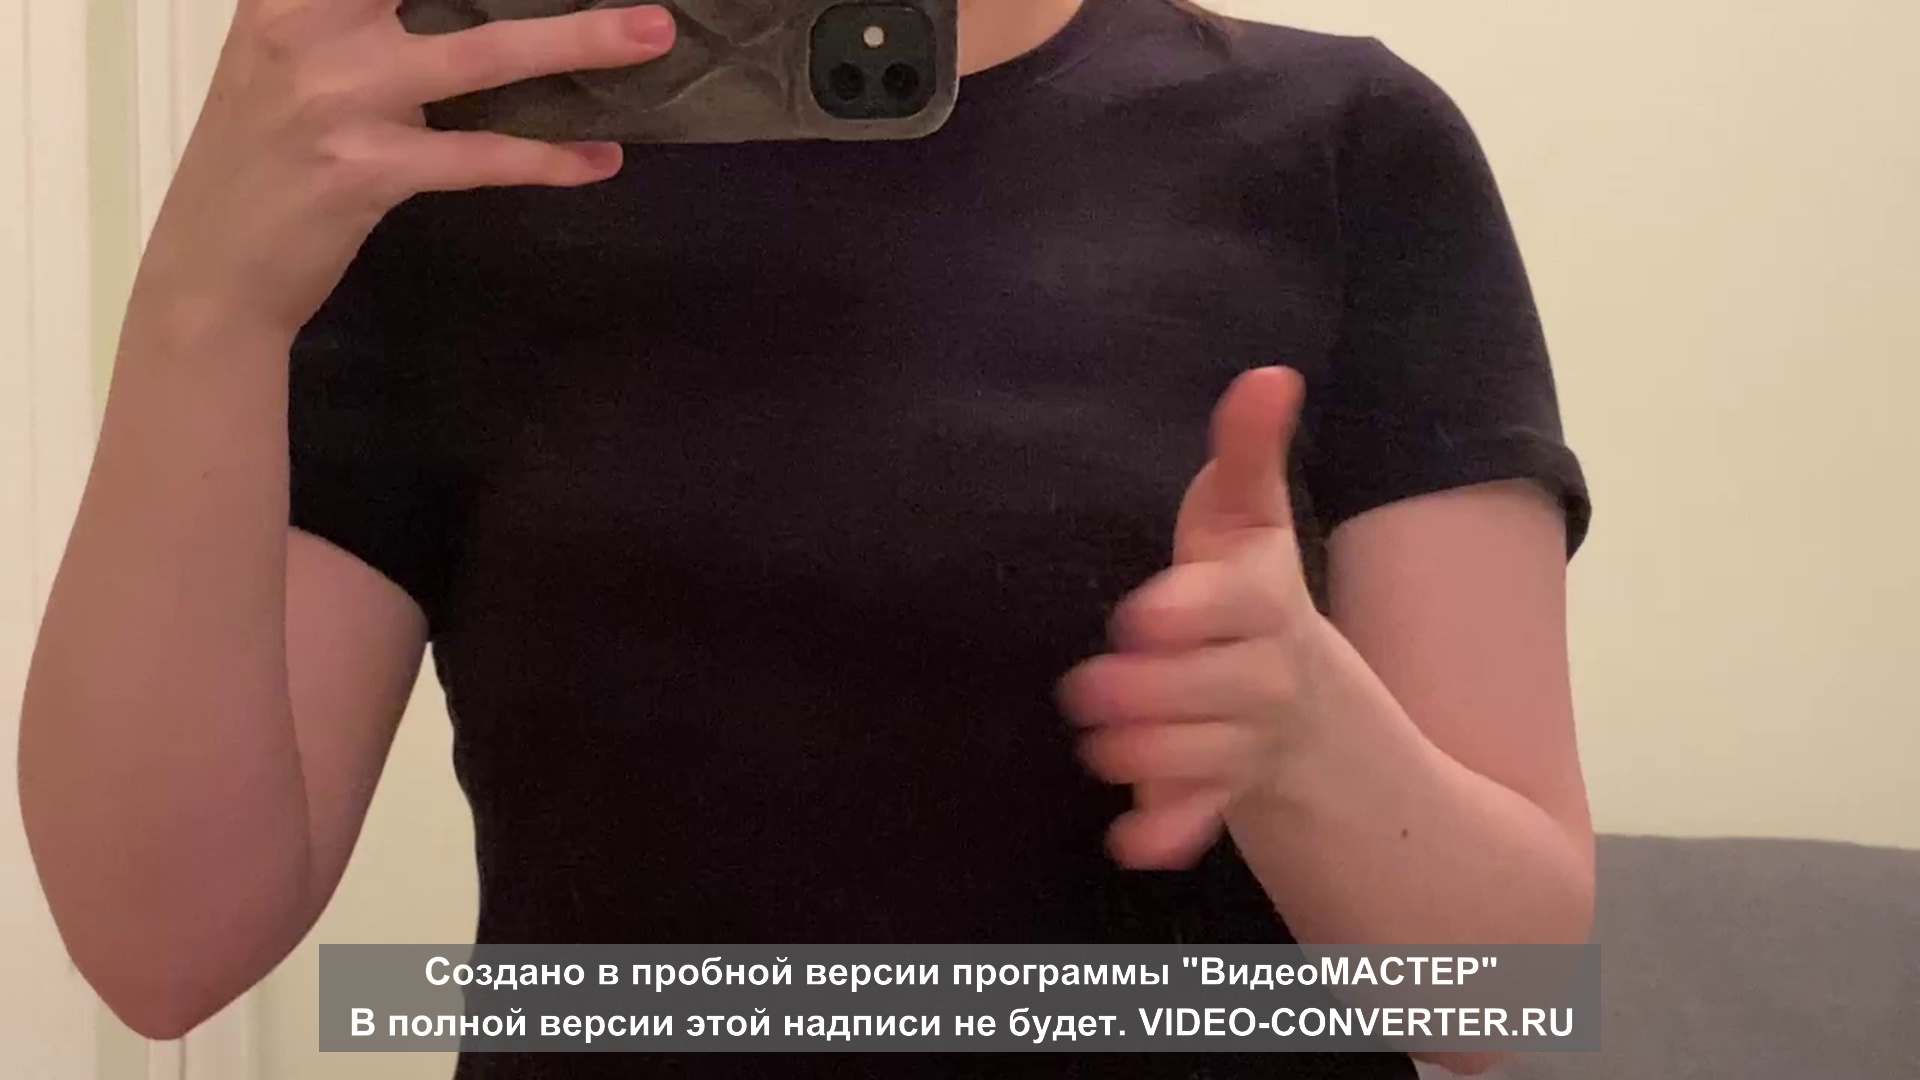Кисть: (1054, 361, 1327, 866)
